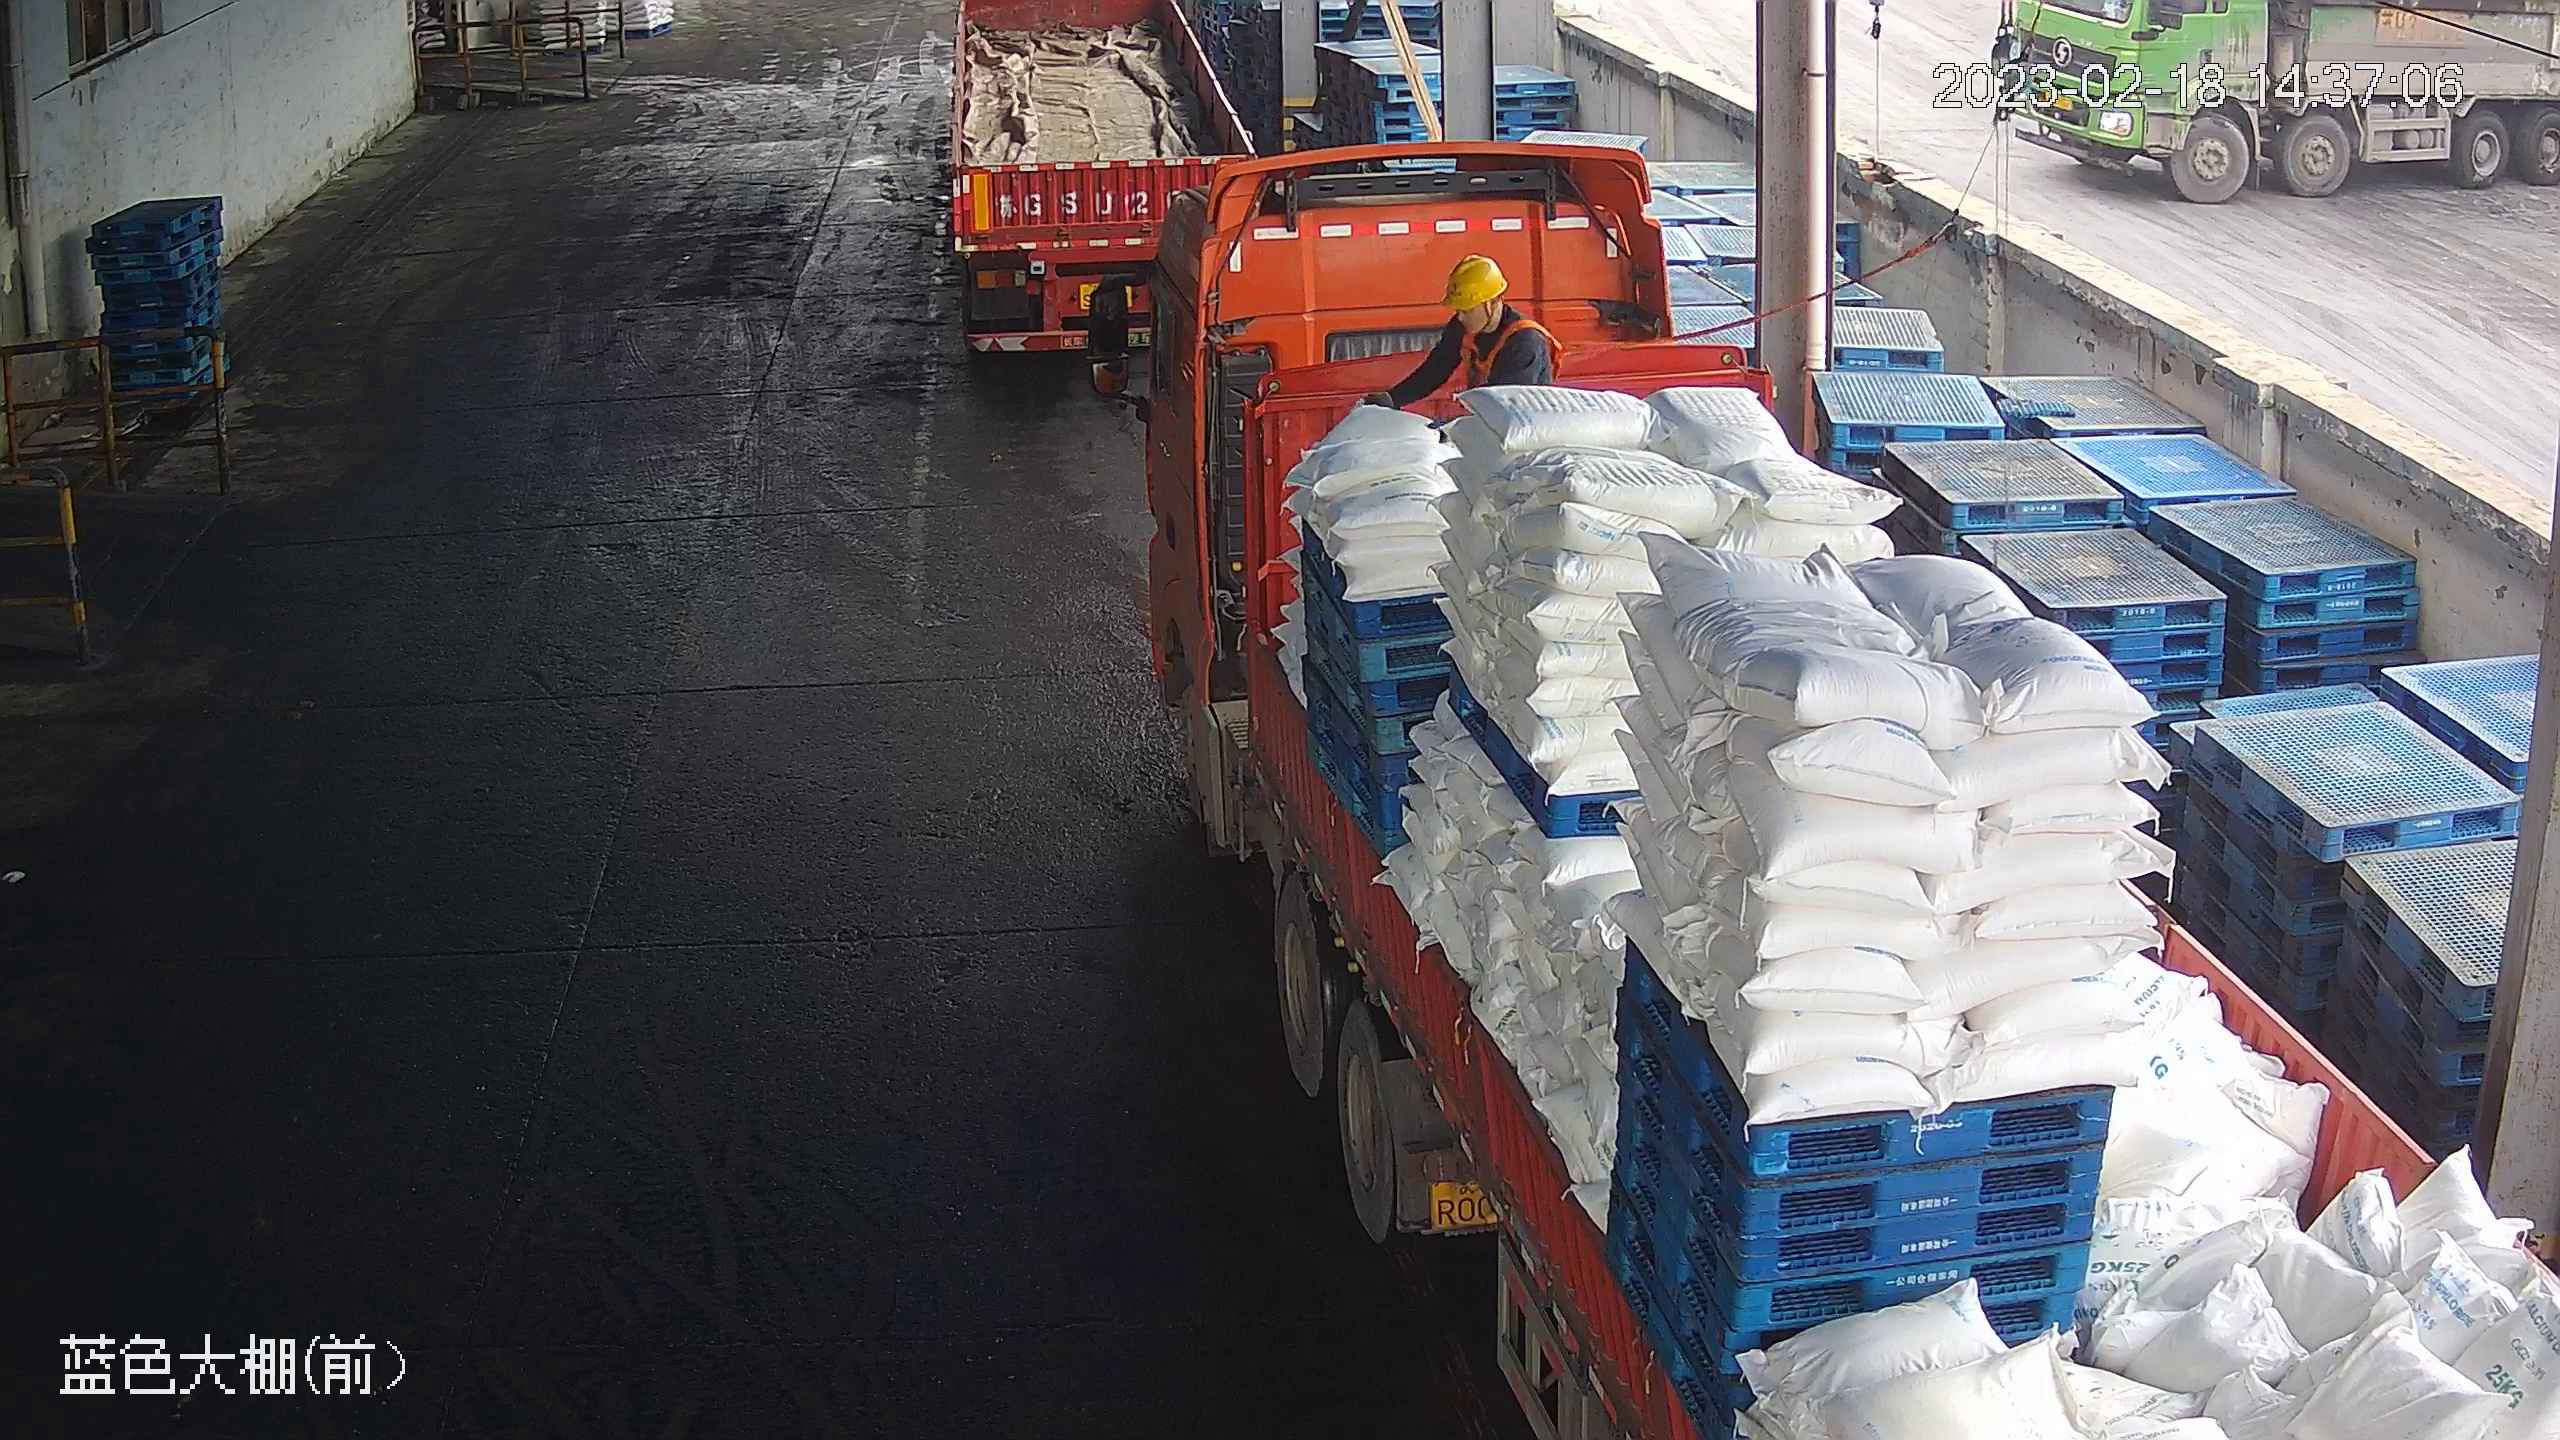belt: (1453, 322, 1549, 389)
head: (1428, 252, 1553, 366)
helmet: (1442, 251, 1509, 308)
truck: (1121, 142, 2560, 1440), (937, 1, 1267, 378)
